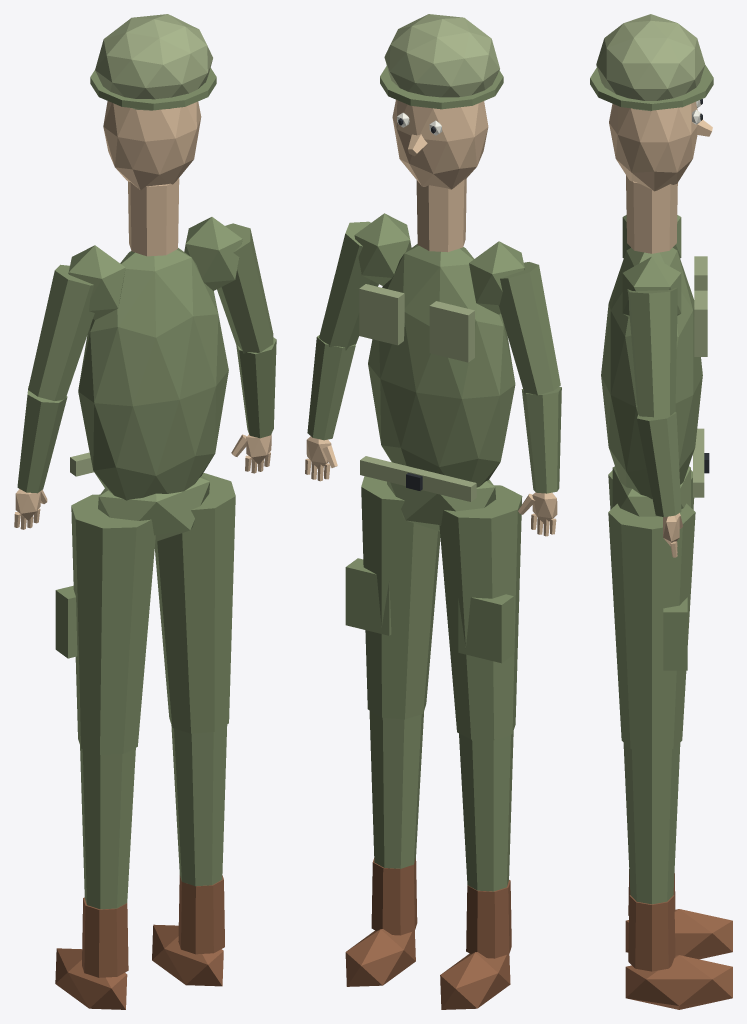
File: OutfitMilitary.fbx
The picture shows the model from 3 angles, left to right: view 1: azimuth 30°, elevation 25°; view 2: azimuth 150°, elevation 25°; view 3: azimuth 270°, elevation 25°; orthographic projection. The views are drawn at different scales.
Visible parts, largest first — view 1: Torso, ThighLeft, ThighRight, HatCrown, CalfLeft, CalfRight, Face, SleeveLeft, SleeveRight, Neck, Waist, BootTopLeft (+10 smaller); view 2: Torso, ThighLeft, ThighRight, HatCrown, CalfLeft, CalfRight, Face, SleeveLeft, SleeveRight, ForearmSleeveLeft, Neck, ForearmSleeveRight (+14 smaller); view 3: ThighRight, Torso, CalfRight, HatCrown, Face, SleeveRight, FootRight, ForearmSleeveRight, Neck, BootTopRight, FootLeft, ShoulderRight (+8 smaller).
Part boxes in pixels (left/top/right/bottom): Torso: left=78, top=248, right=228, bottom=500; ThighLeft: left=71, top=494, right=155, bottom=754; ThighRight: left=154, top=473, right=235, bottom=733; HatCrown: left=95, top=14, right=212, bottom=110; CalfLeft: left=80, top=746, right=135, bottom=909; CalfRight: left=171, top=724, right=227, bottom=886; Face: left=103, top=101, right=201, bottom=190; SleeveLeft: left=28, top=264, right=94, bottom=400; SleeveRight: left=217, top=223, right=273, bottom=353; Neck: left=128, top=178, right=179, bottom=256; Waist: left=98, top=475, right=209, bottom=541; BootTopLeft: left=82, top=897, right=128, bottom=977; Torso: left=368, top=244, right=515, bottom=487; ThighLeft: left=439, top=485, right=522, bottom=740; ThighRight: left=361, top=476, right=440, bottom=719; HatCrown: left=384, top=14, right=499, bottom=97; CalfLeft: left=459, top=731, right=513, bottom=891; CalfRight: left=369, top=711, right=423, bottom=868; Face: left=392, top=99, right=488, bottom=189; SleeveLeft: left=498, top=262, right=560, bottom=395; SleeveRight: left=319, top=221, right=378, bottom=350; ForearmSleeveLeft: left=521, top=386, right=561, bottom=493; Neck: left=416, top=179, right=466, bottom=252; ForearmSleeveRight: left=307, top=335, right=355, bottom=440; ThighRight: left=608, top=503, right=695, bottom=752; Torso: left=601, top=247, right=702, bottom=498; CalfRight: left=623, top=743, right=680, bottom=904; HatCrown: left=596, top=14, right=705, bottom=111; Face: left=609, top=101, right=697, bottom=191; SleeveRight: left=627, top=288, right=677, bottom=417; FootRight: left=625, top=955, right=732, bottom=1009; ForearmSleeveRight: left=637, top=412, right=681, bottom=516; Neck: left=626, top=175, right=677, bottom=253; BootTopRight: left=628, top=895, right=675, bottom=971; FootLeft: left=625, top=909, right=732, bottom=959; ShoulderRight: left=622, top=256, right=681, bottom=317.
Size of the model in its own units: 0.4746 by 1.75 by 0.2344.
